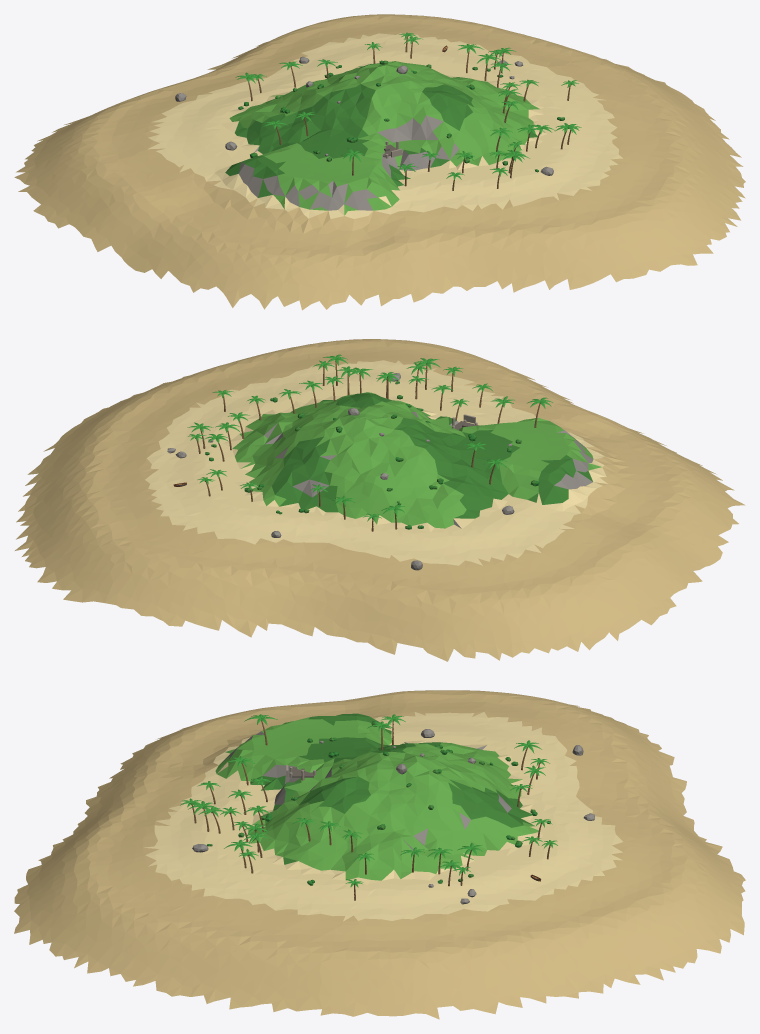
File: Island_Parrot.fbx
The picture shows the model from 3 angles, top to bottom: view 1: azimuth 30°, elevation 25°; view 2: azimuth 150°, elevation 25°; view 3: azimuth 270°, elevation 25°; orthographic projection. The views are drawn at different scales.
Visible parts, largest first — view 1: Terrain; view 2: Terrain; view 3: Terrain.
Part boxes in pixels (left/top/right/bottom): Terrain: left=14, top=14, right=745, bottom=310; Terrain: left=15, top=339, right=745, bottom=661; Terrain: left=14, top=690, right=745, bottom=1019.
Bounding box in the file's own units: 225 × 35.77 × 215.
